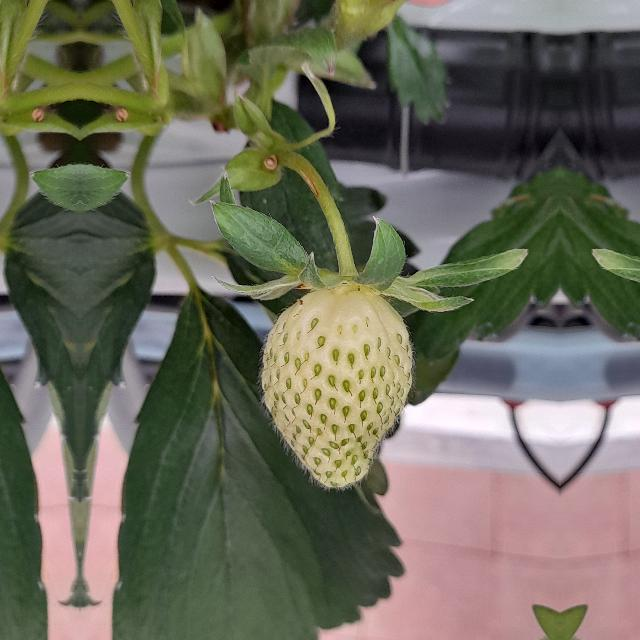Health_25: (261, 289, 411, 486)
